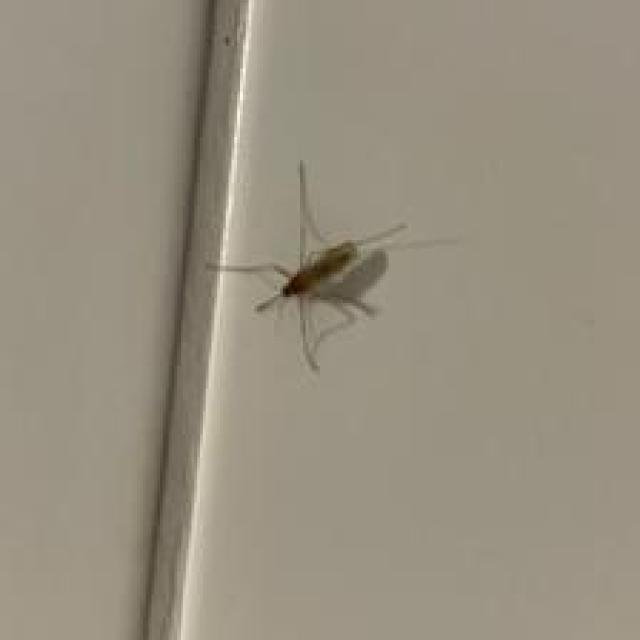Culex: (204, 158, 456, 373)
